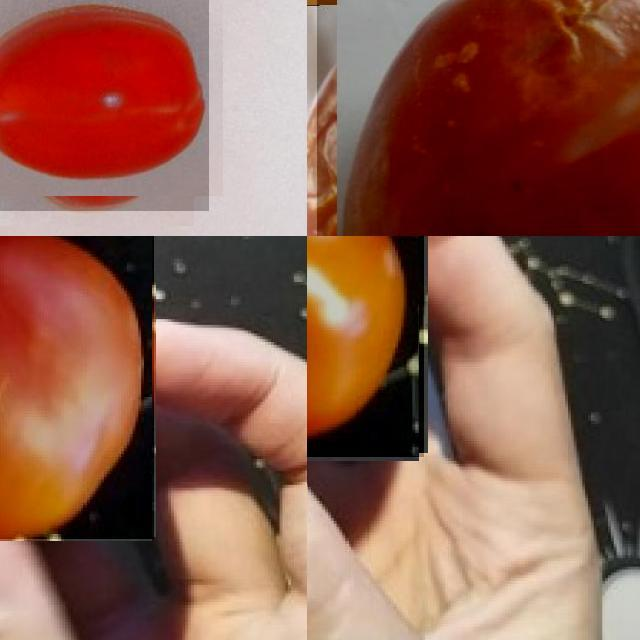Fresh Tomato: (0, 0, 208, 211), (307, 236, 423, 457)
Rotten Tomato: (317, 0, 640, 236), (0, 236, 154, 538)
